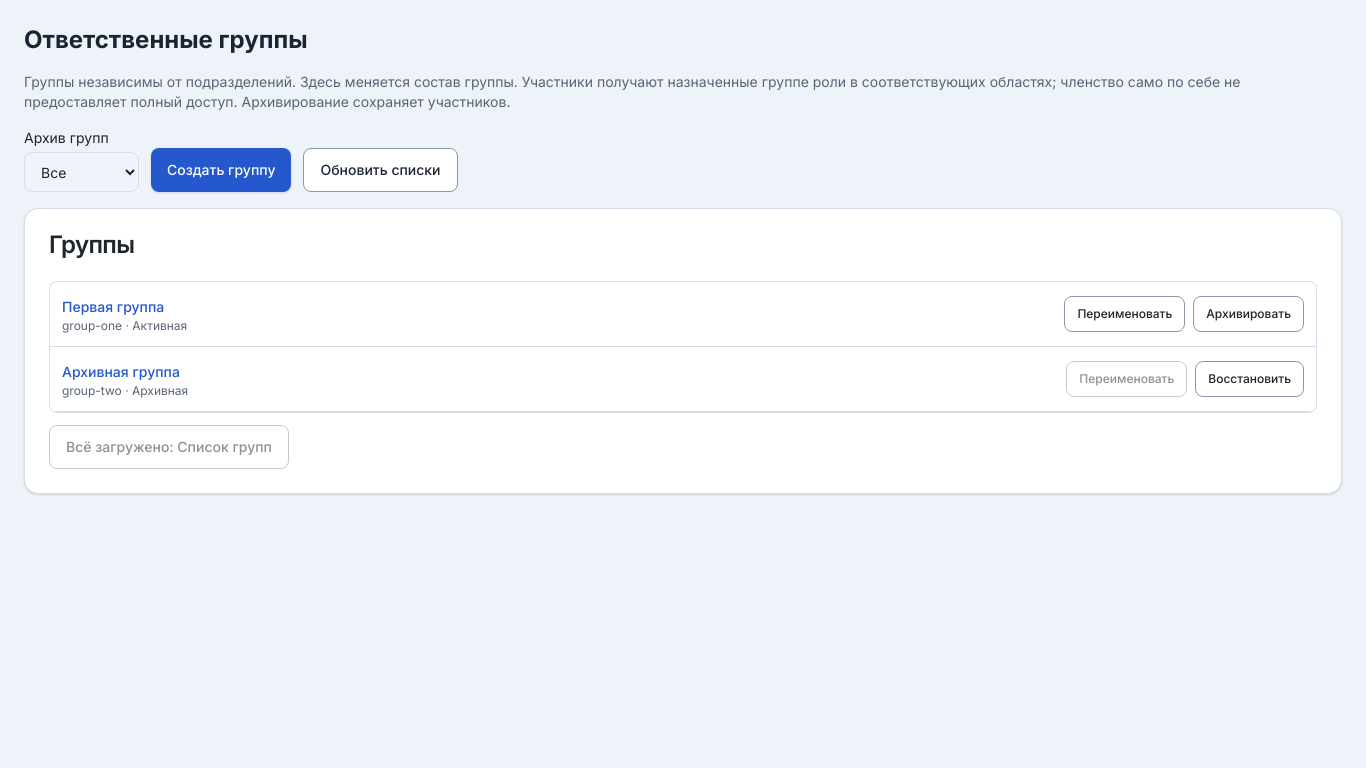
Test case: groups, members and people reads › disables writes and hides every list on cross-view version mismatch, then refreshes all
Click the button "Первая группа" at [113, 307], box x1=62 y1=297 x2=164 y2=317
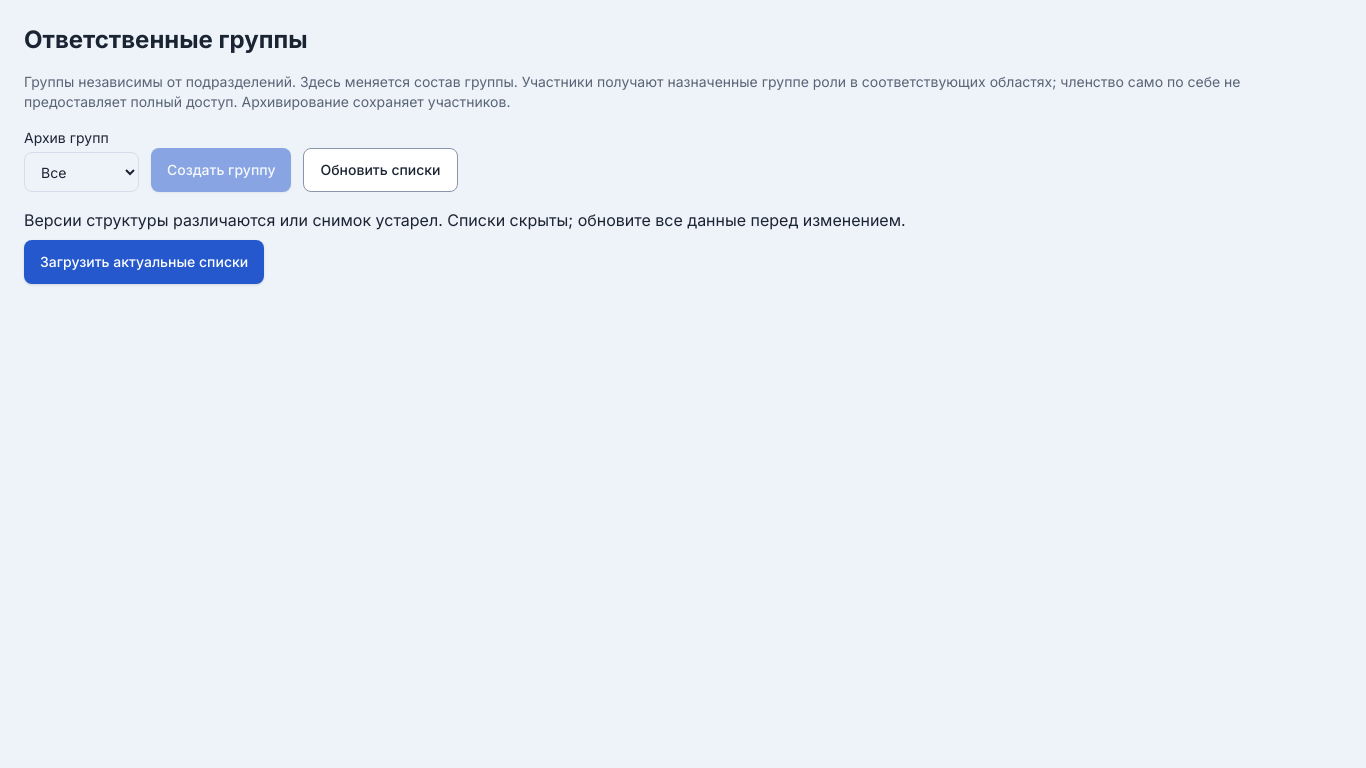
Check: the text "Версии структуры различаются" is shown, box x1=24 y1=210 x2=906 y2=230
Check: the button labelled "Список групп" is gone
Check: the button "Загрузить актуальные списки" is enabled
Click the button "Загрузить актуальные списки" at [144, 262], box x1=24 y1=240 x2=264 y2=284
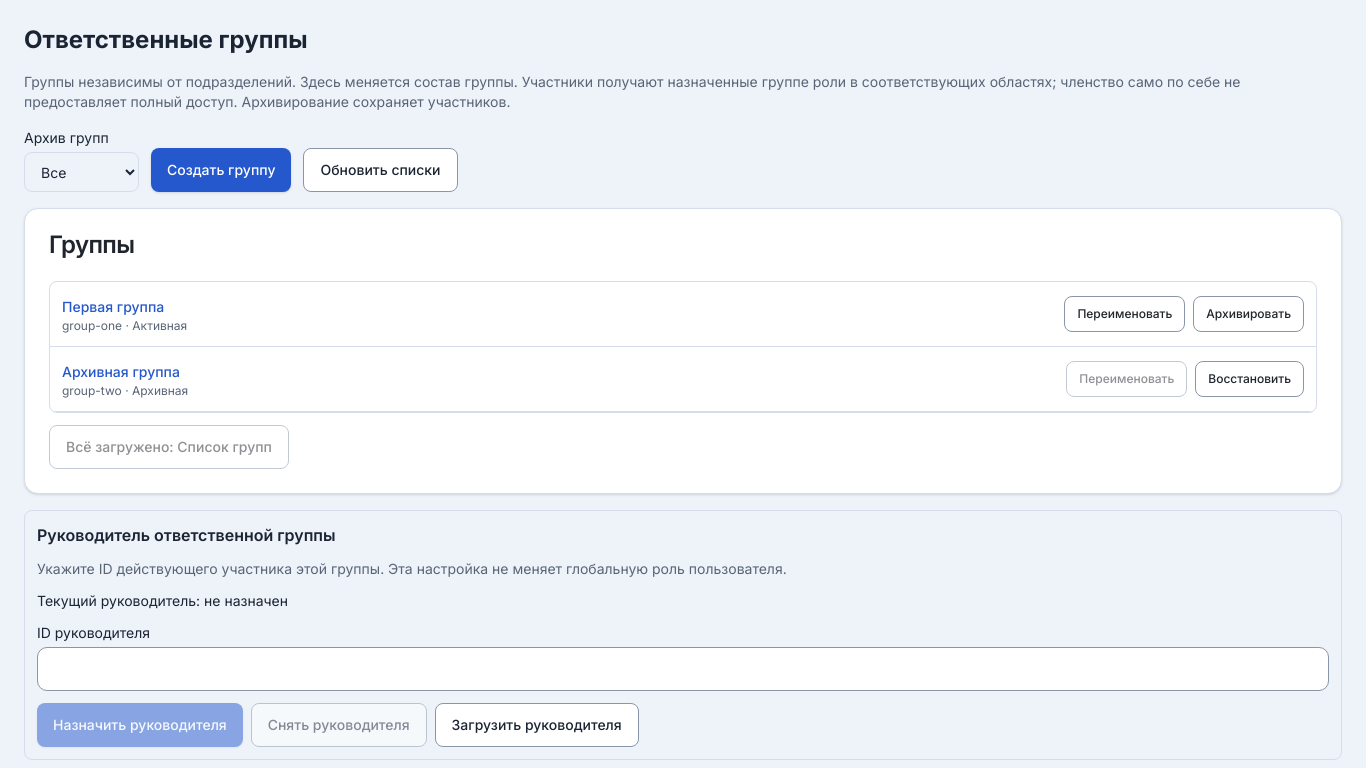
Check: the element named "Список групп" is shown, box x1=49 y1=281 x2=1317 y2=413
